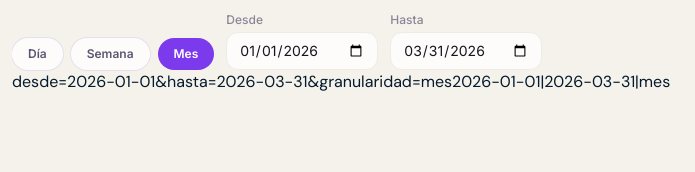
Scenario: RangoGranularidadSelector — writing back to the URL › writes desde and hasta into the search params when changed
Type "2026-02-01" into the date field labelled "Desde". click: (302, 51)
box: [226,32,378,70]
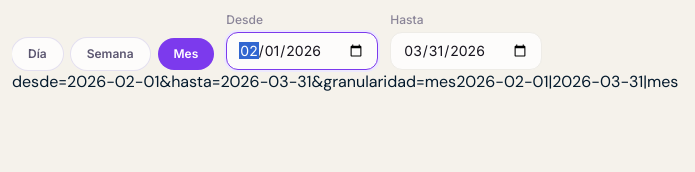
expect the text with test id "params" shows "desde=2026-02-01": met, box [12,71,456,92]
